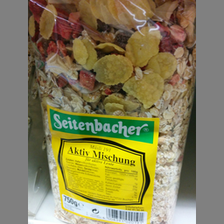cereal: (30, 1, 196, 224)
